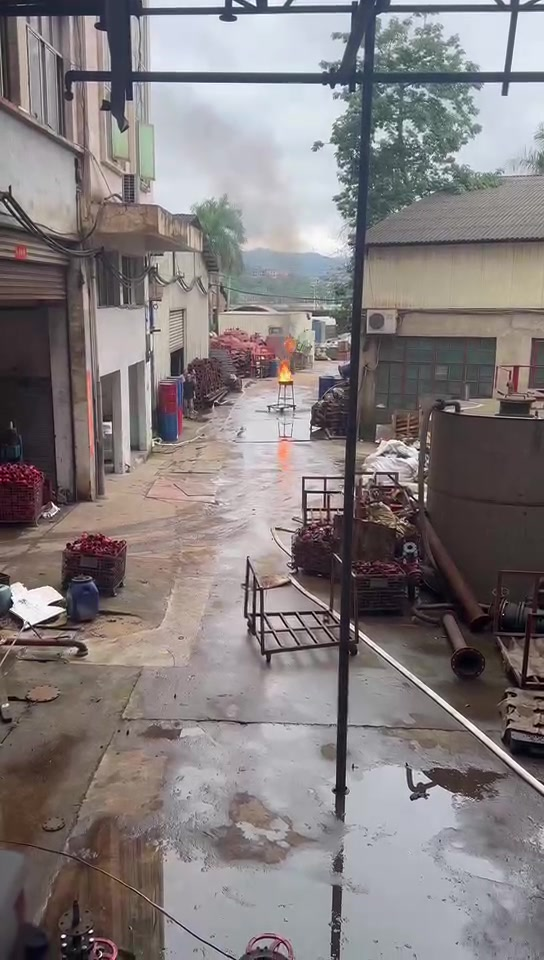fire: (278, 337, 296, 381)
